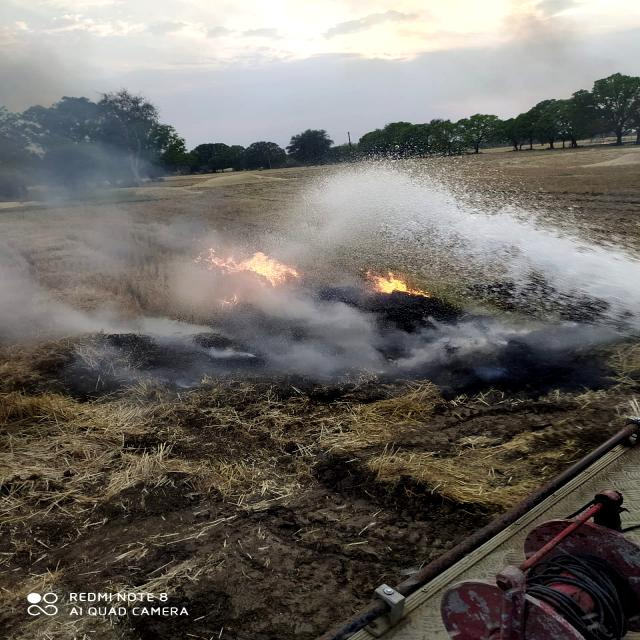Fire: (193, 246, 302, 288), (363, 268, 433, 299)
Smoke: (0, 292, 532, 388), (2, 42, 160, 300)
